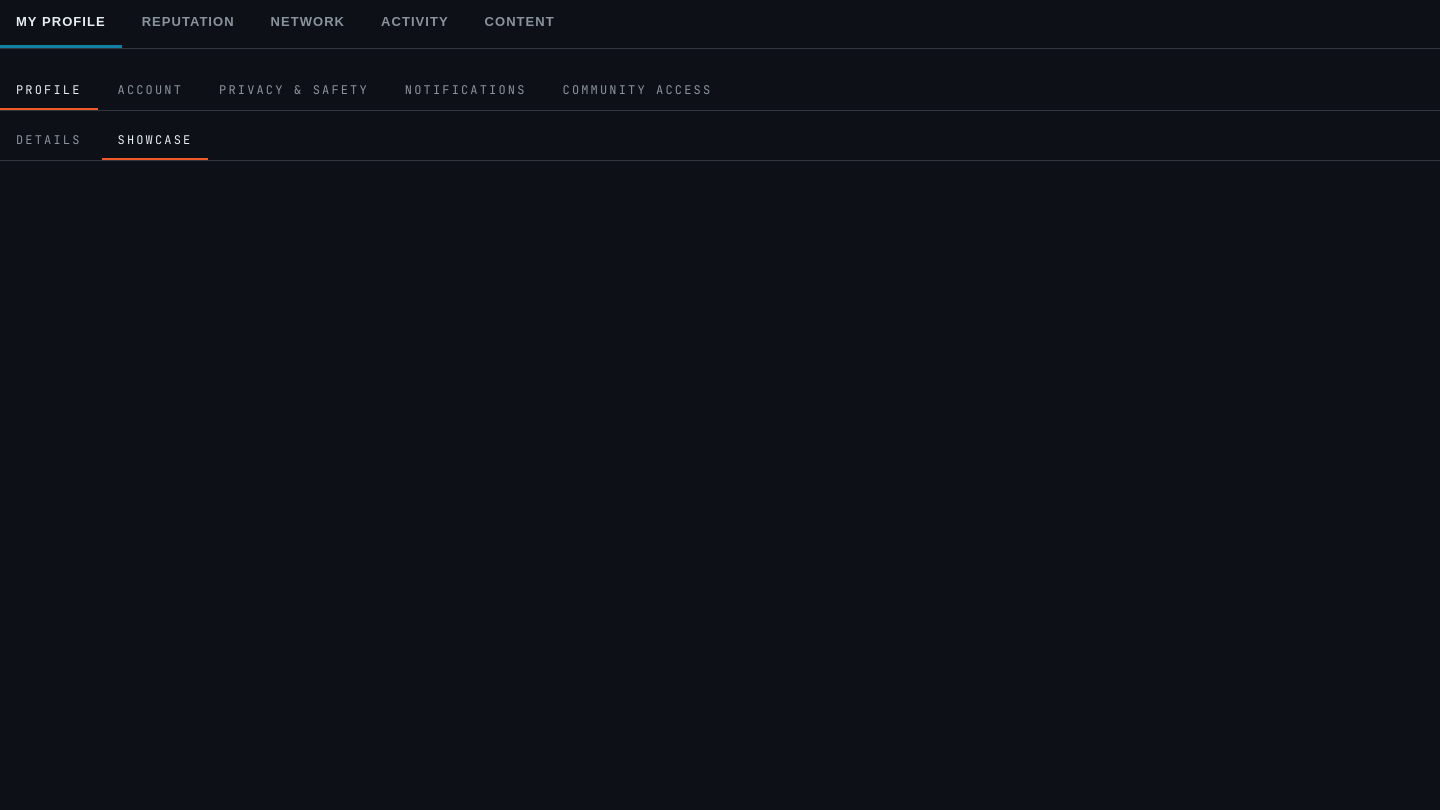
Scenario: a dirty form survives every top-level group move › dirty Showcase → showcase is guarded
The image size is (1440, 810).
Click the tab "Network": (308, 24) [255, 0, 361, 48]
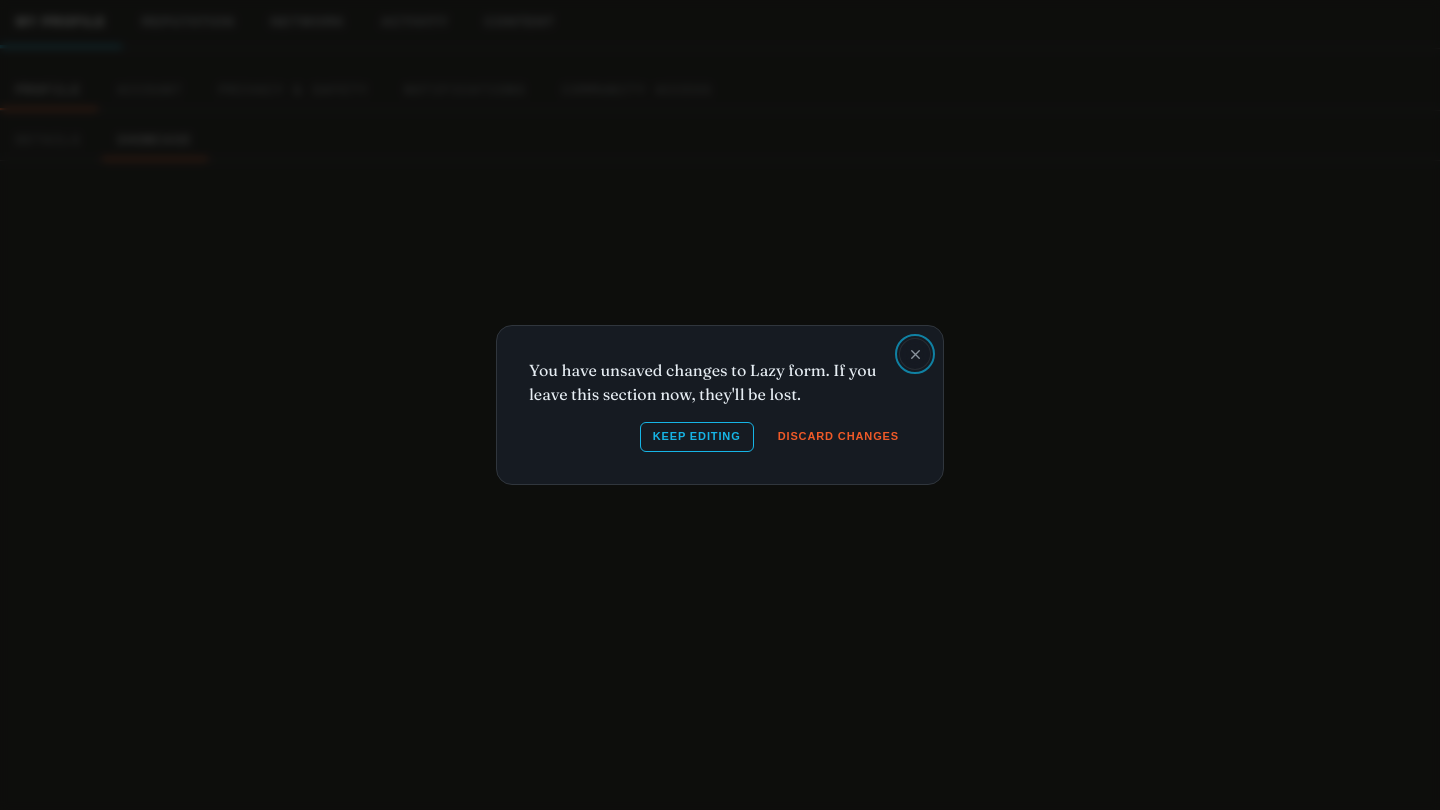
Now the dialog is shown
